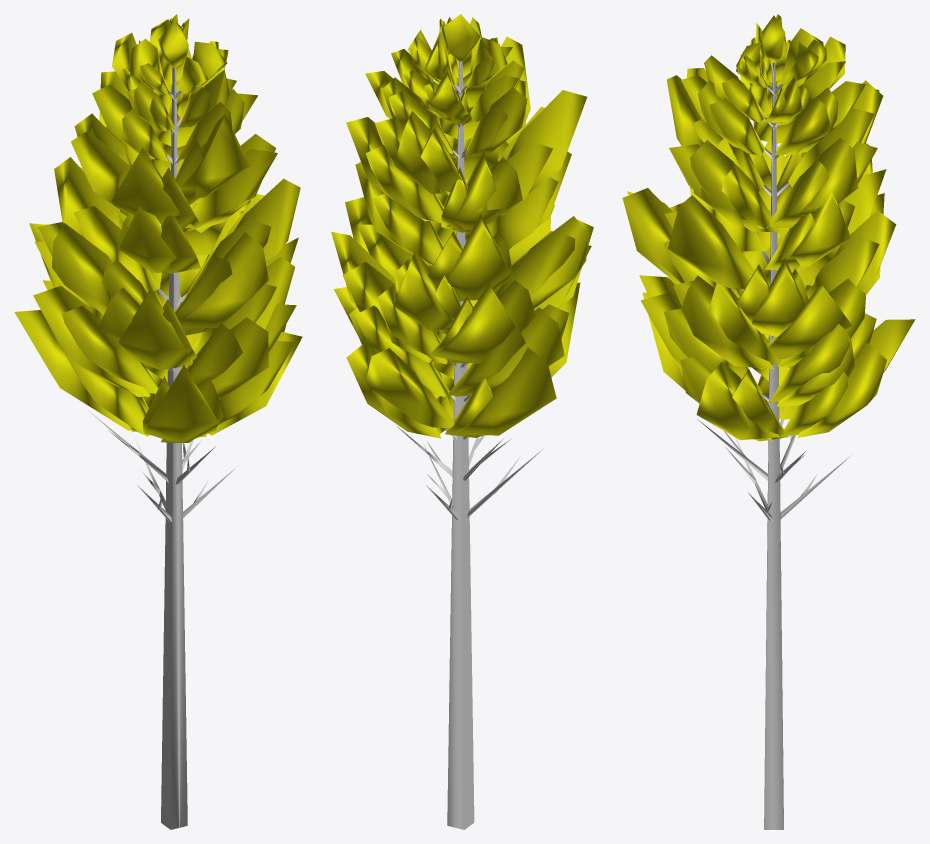
File: birch_lod0.gltf
3 views of the same model, side by side, from view 1: azimuth 30°, elevation 25°; view 2: azimuth 150°, elevation 25°; view 3: azimuth 270°, elevation 25° (orthographic).
Visible parts, largest first — view 1: tree; view 2: tree; view 3: tree.
Boxes of the visible parts, box(x1,y1,x2,y2) form: tree: box(14, 14, 302, 829); tree: box(331, 14, 593, 829); tree: box(622, 14, 915, 829).
Size of the model in its own units: 5.47 by 18 by 5.9.
